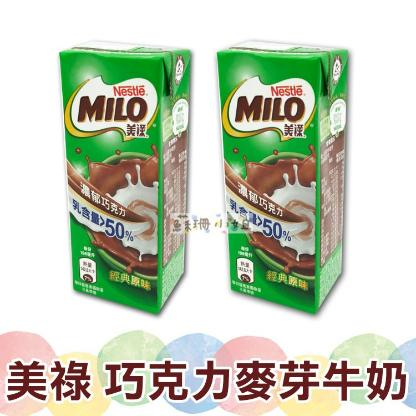Others: (59, 42, 190, 312), (218, 42, 348, 312)
